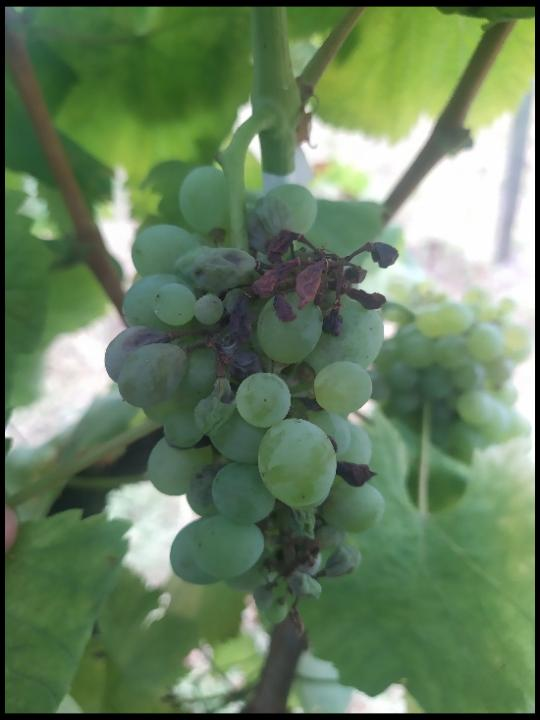grape: (102, 163, 404, 642)
